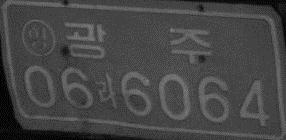0: (157, 73, 191, 122), (23, 65, 57, 110)
4: (239, 79, 270, 127)
6: (198, 74, 231, 123), (121, 71, 152, 117), (60, 66, 92, 110)
광주_D: (64, 21, 211, 63)
라: (95, 71, 118, 109)
영: (20, 18, 55, 57)
